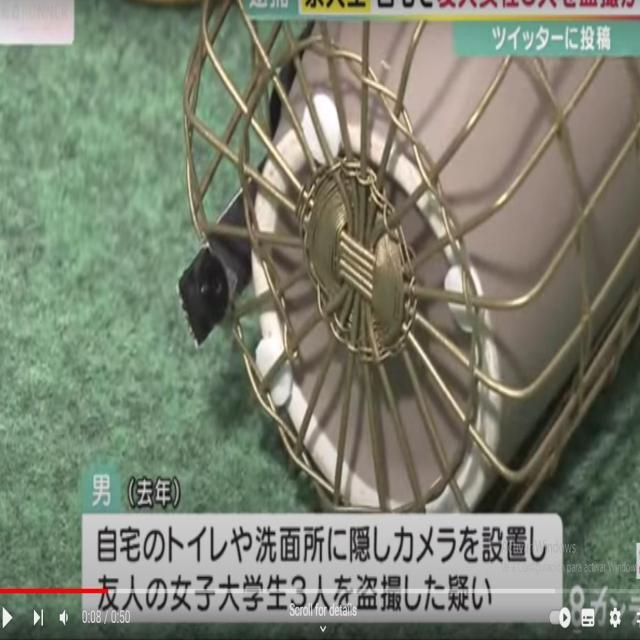hidden camera: (197, 257, 230, 320)
